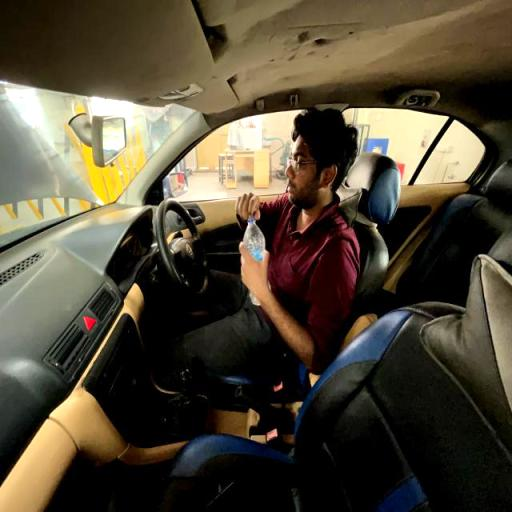Drinking: (198, 107, 362, 361)
